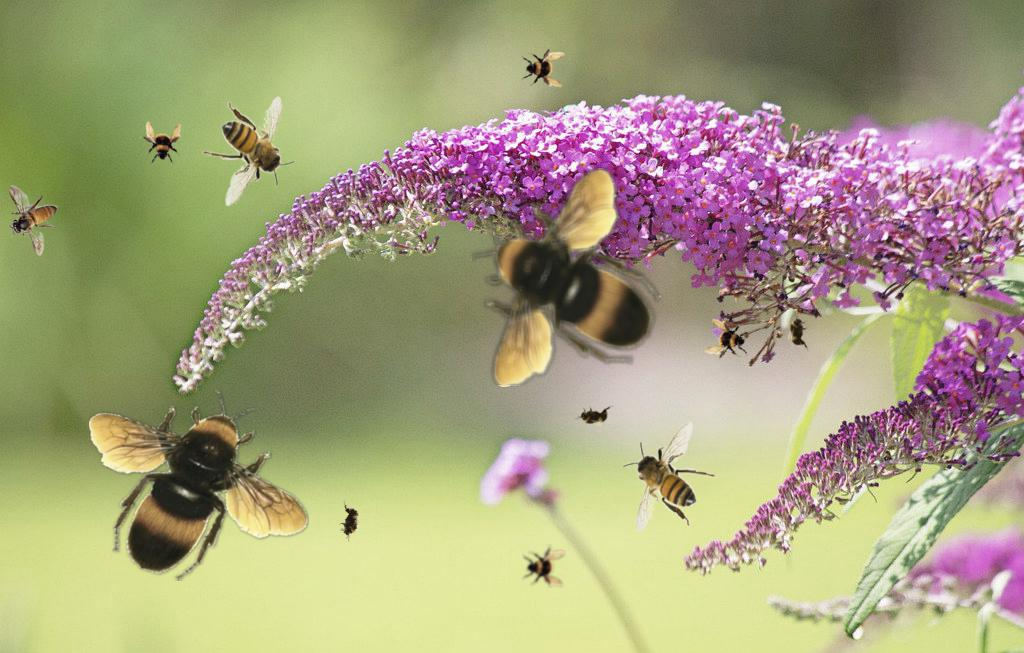Bee: (89, 390, 309, 581), (470, 167, 661, 387), (202, 96, 296, 207), (622, 421, 716, 532), (8, 185, 58, 256), (703, 316, 753, 366), (139, 121, 183, 165), (522, 544, 566, 588), (521, 45, 565, 89), (334, 500, 366, 544), (787, 312, 809, 352), (574, 405, 614, 427)
